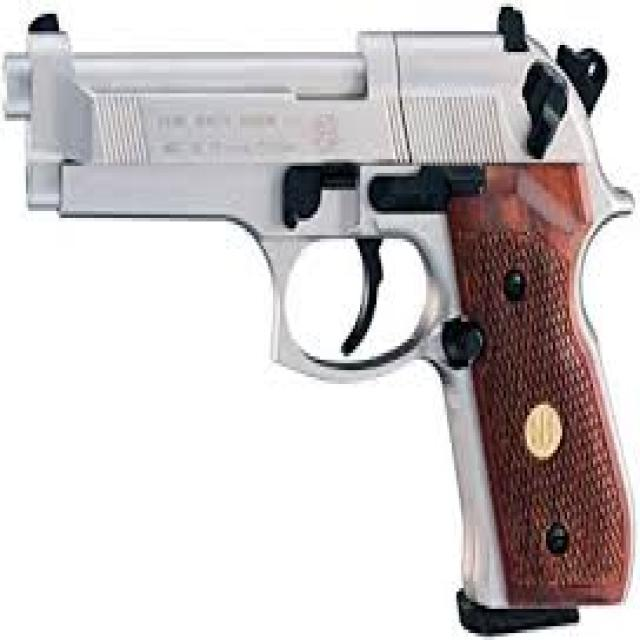pistol: (1, 1, 640, 640)
